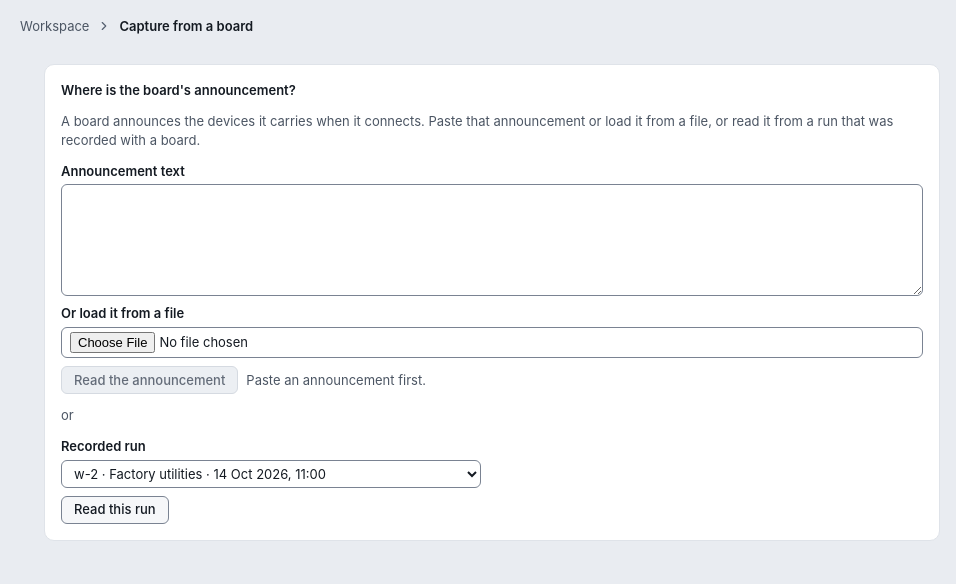
Test case: reading a recorded run › offers the runs of the workspace and reads the one that is picked
Select "w-1 · Factory utilities · 14 Oct 2026, 10:00" in the dropdown labelled "Recorded run" at (271, 474), box [61,460,481,488]
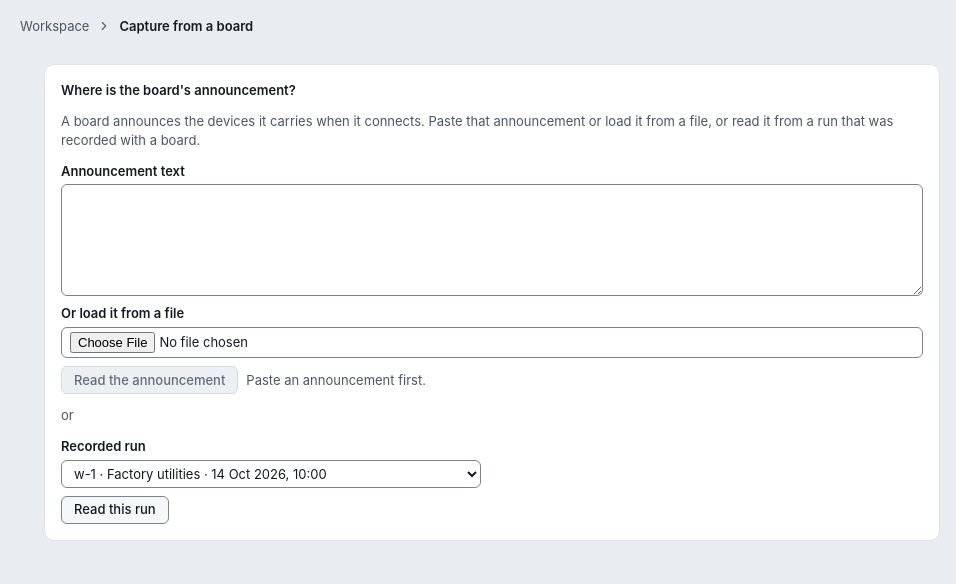
Click the button "Read this run".
click(115, 510)  # box [61,496,169,524]
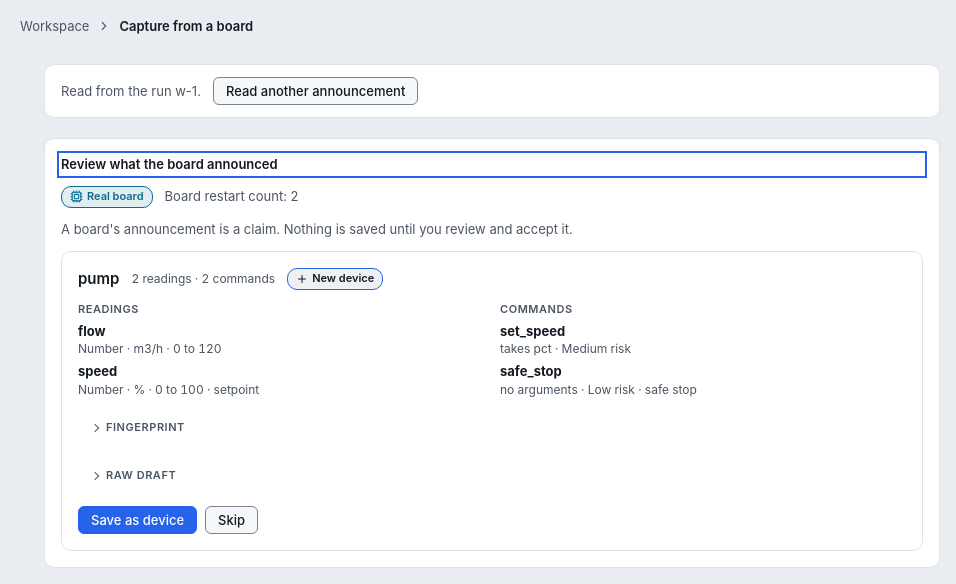
Check: the text "Read from the run w-1." is shown, box [61,82,201,100]
